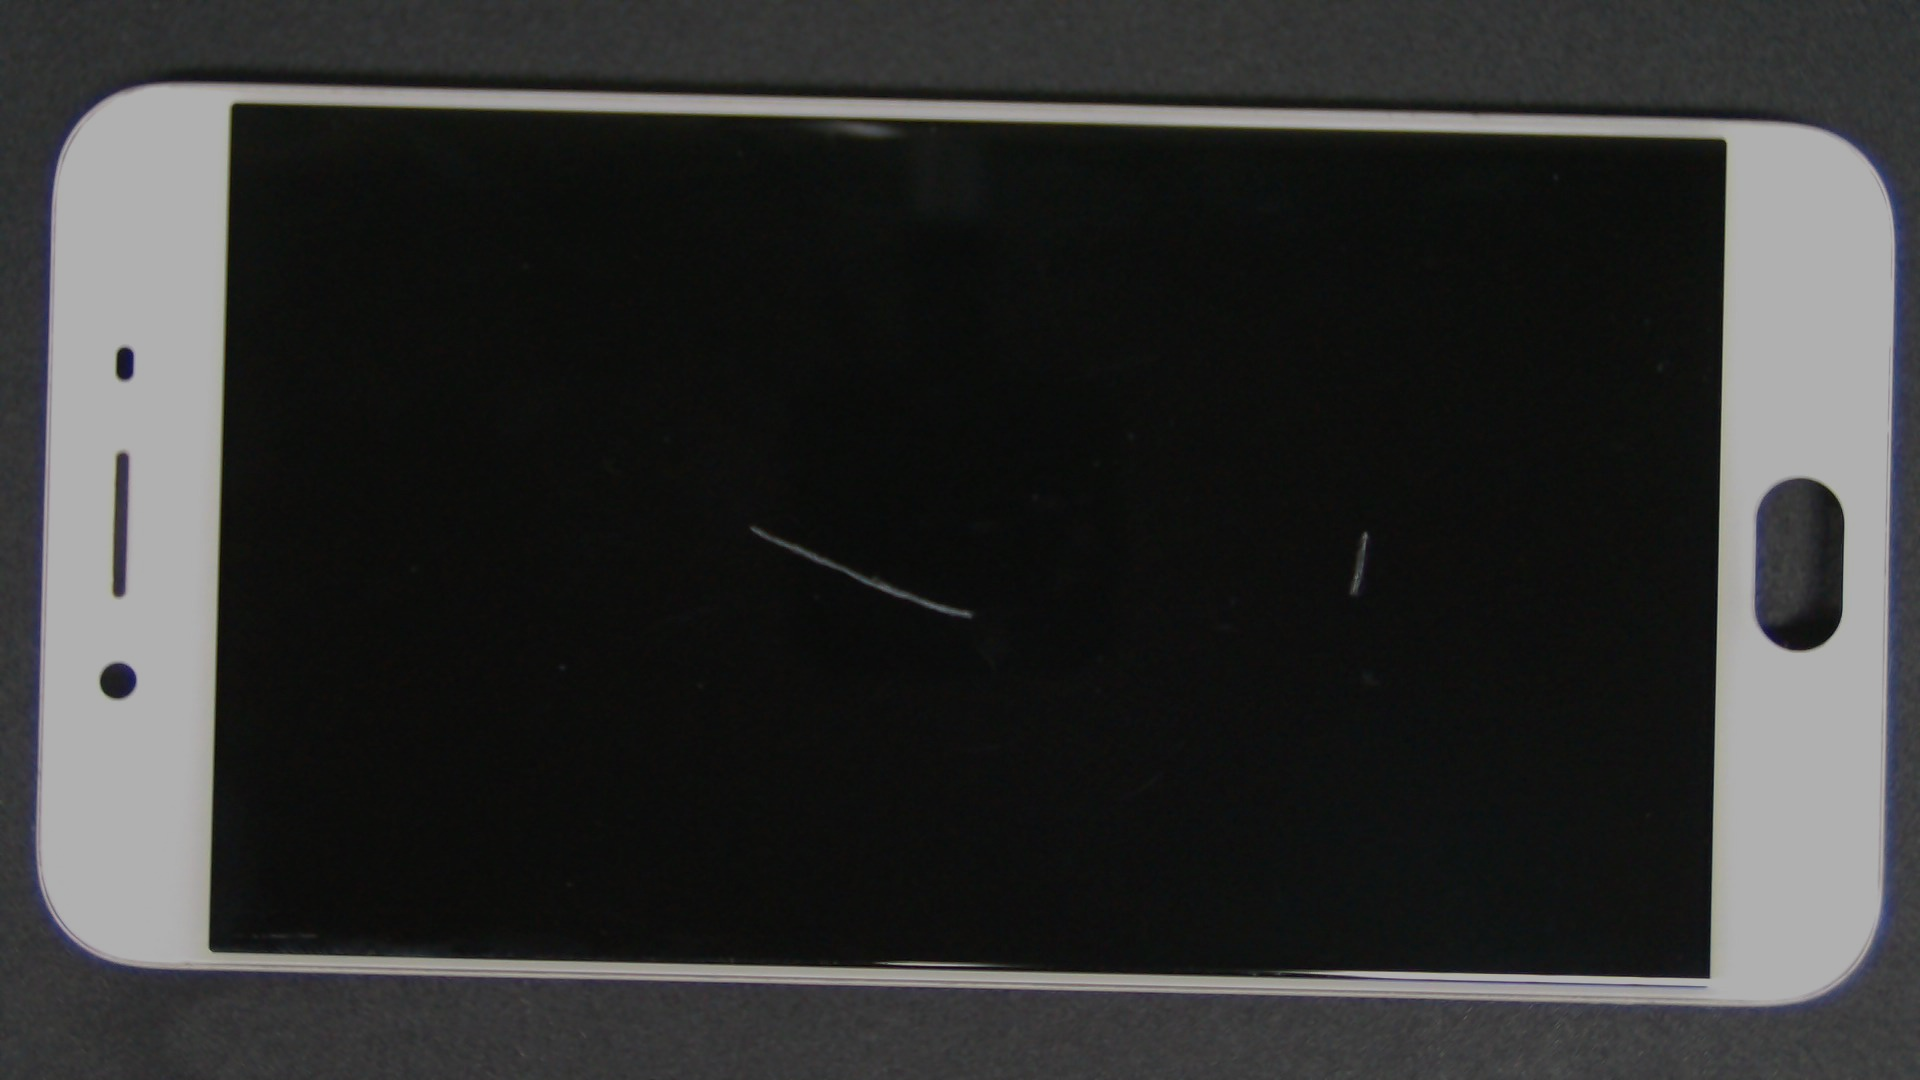oil: (683, 265, 1920, 798), (378, 262, 1134, 789)
